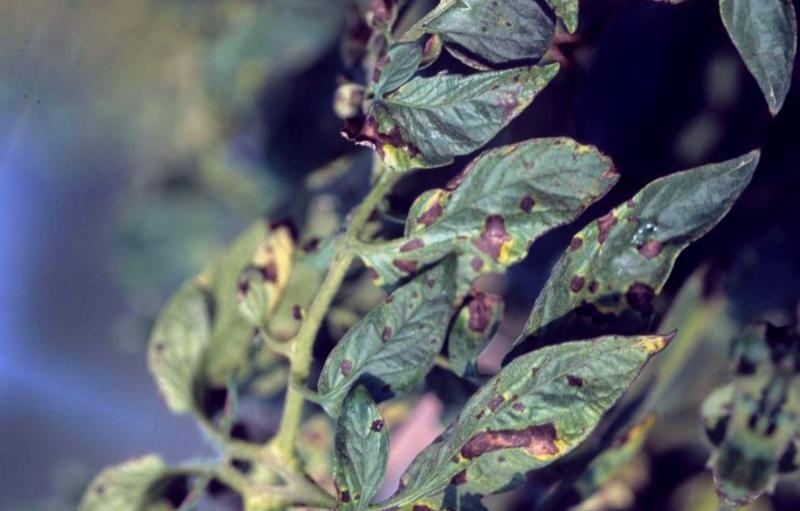Tomato Early blight leaf: (530, 99, 761, 404), (392, 265, 664, 511), (374, 104, 615, 341), (307, 220, 484, 447)
